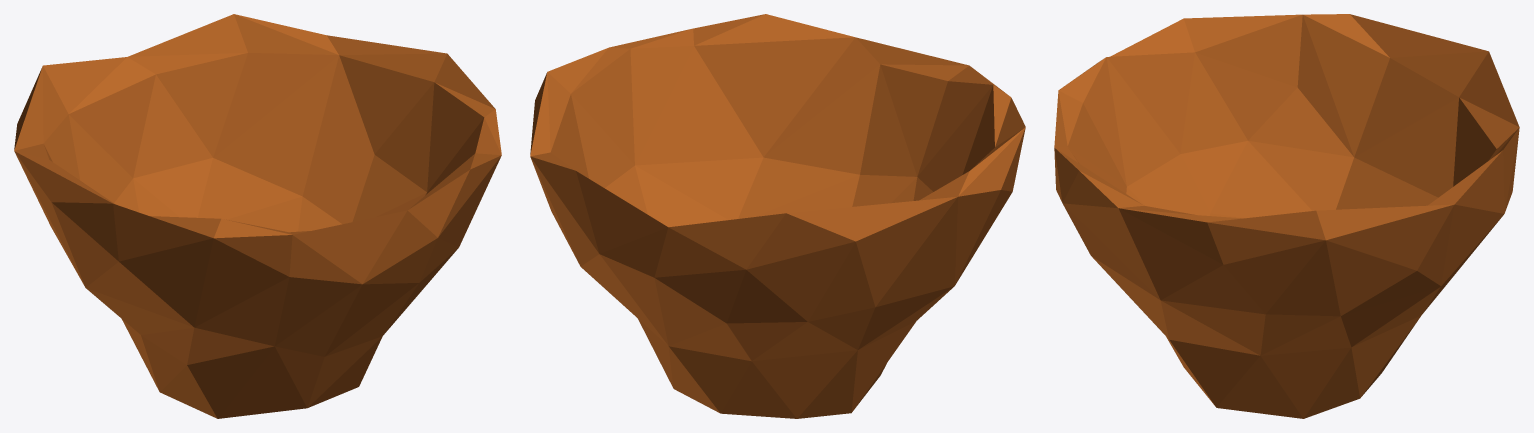
File: SM_pottery_04.fbx
The picture shows the model from 3 angles, left to right: view 1: azimuth 30°, elevation 25°; view 2: azimuth 150°, elevation 25°; view 3: azimuth 270°, elevation 25°; orthographic projection. The views are drawn at different scales.
Parts seen in each view (by area): view 1: Object033; view 2: Object033; view 3: Object033.
Part boxes in pixels (x1=…): Object033: x1=14, y1=14, x2=501, y2=418; Object033: x1=530, y1=14, x2=1025, y2=418; Object033: x1=1054, y1=14, x2=1519, y2=418.
Size of the model in its own units: 37.86 by 22.77 by 35.59.
